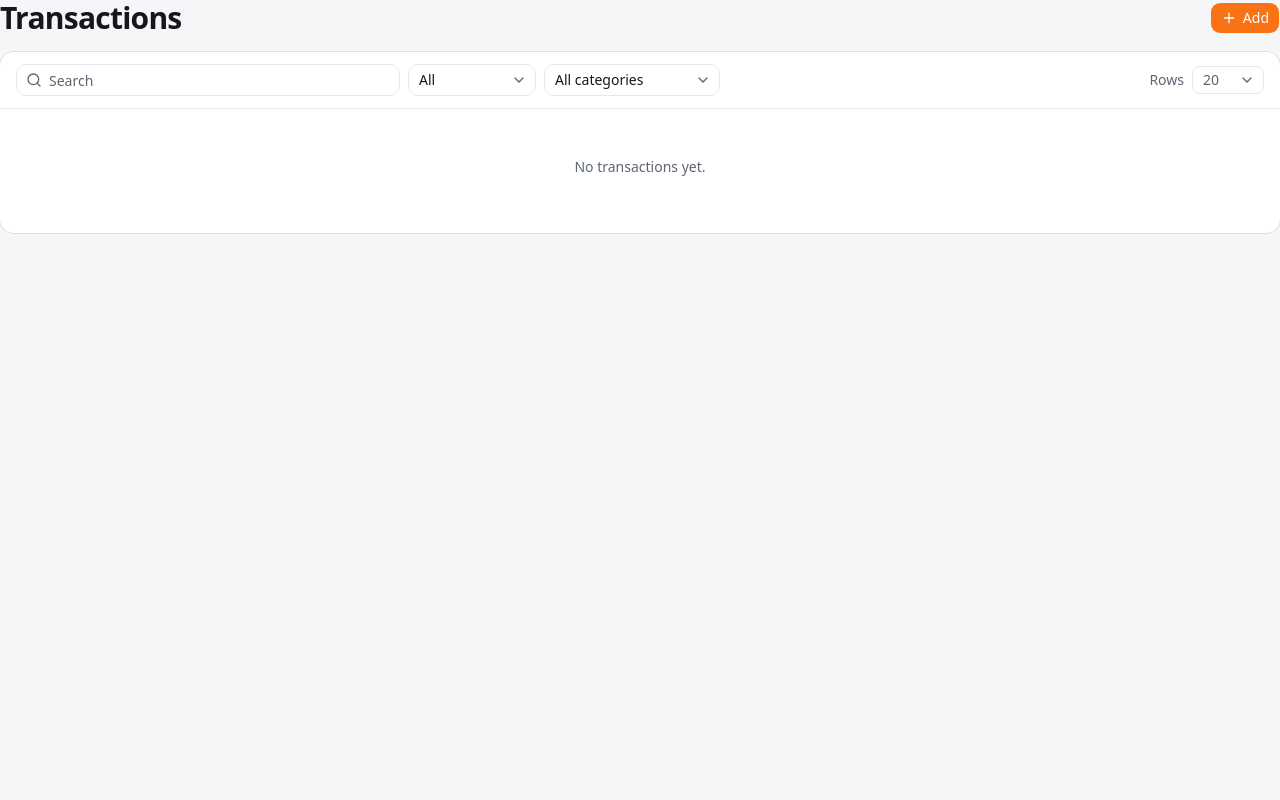
Test: transactions page › lets a guest open the add form but doesn't save
Check: the text "No transactions yet." is shown, box [574,157,706,176]
Click the button "Add": (1245, 18) [1210,2,1279,34]
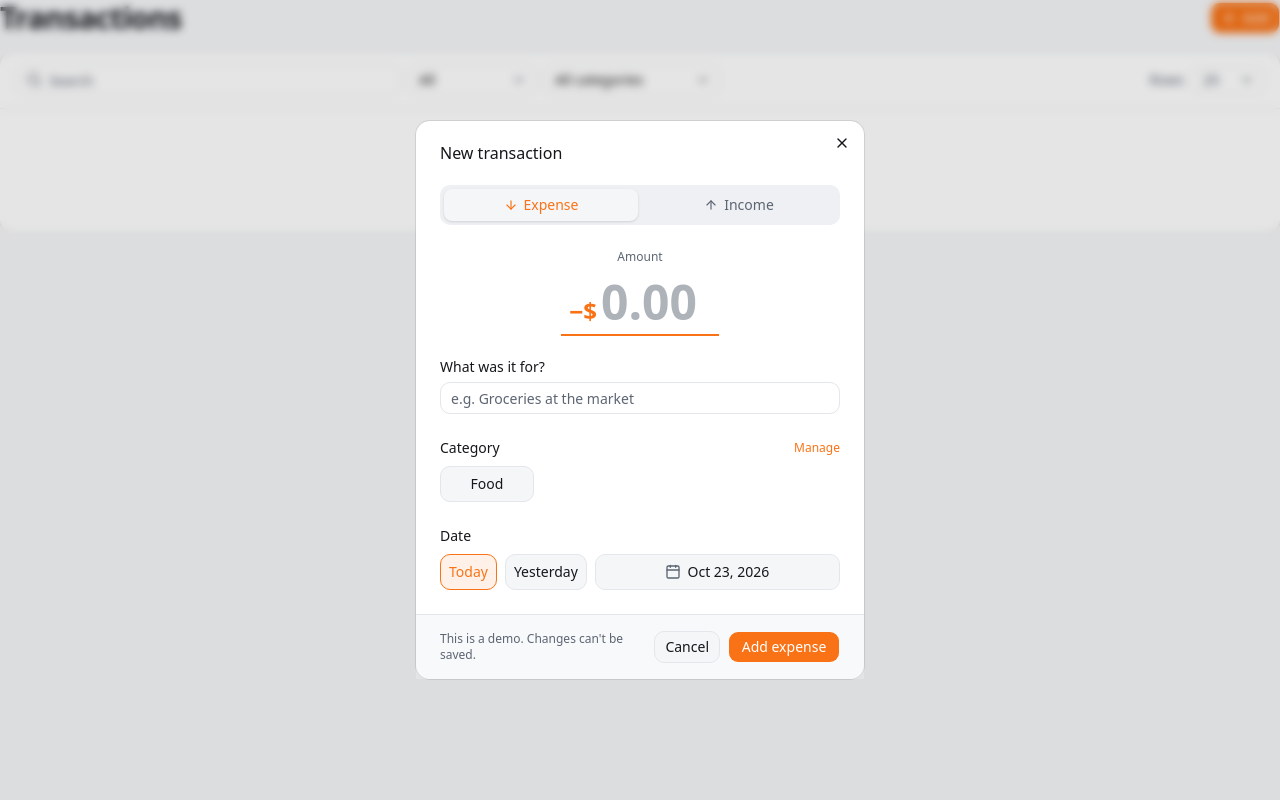
In the field labelled "Amount": (656, 302) [601,269,711,334], type "12.5"
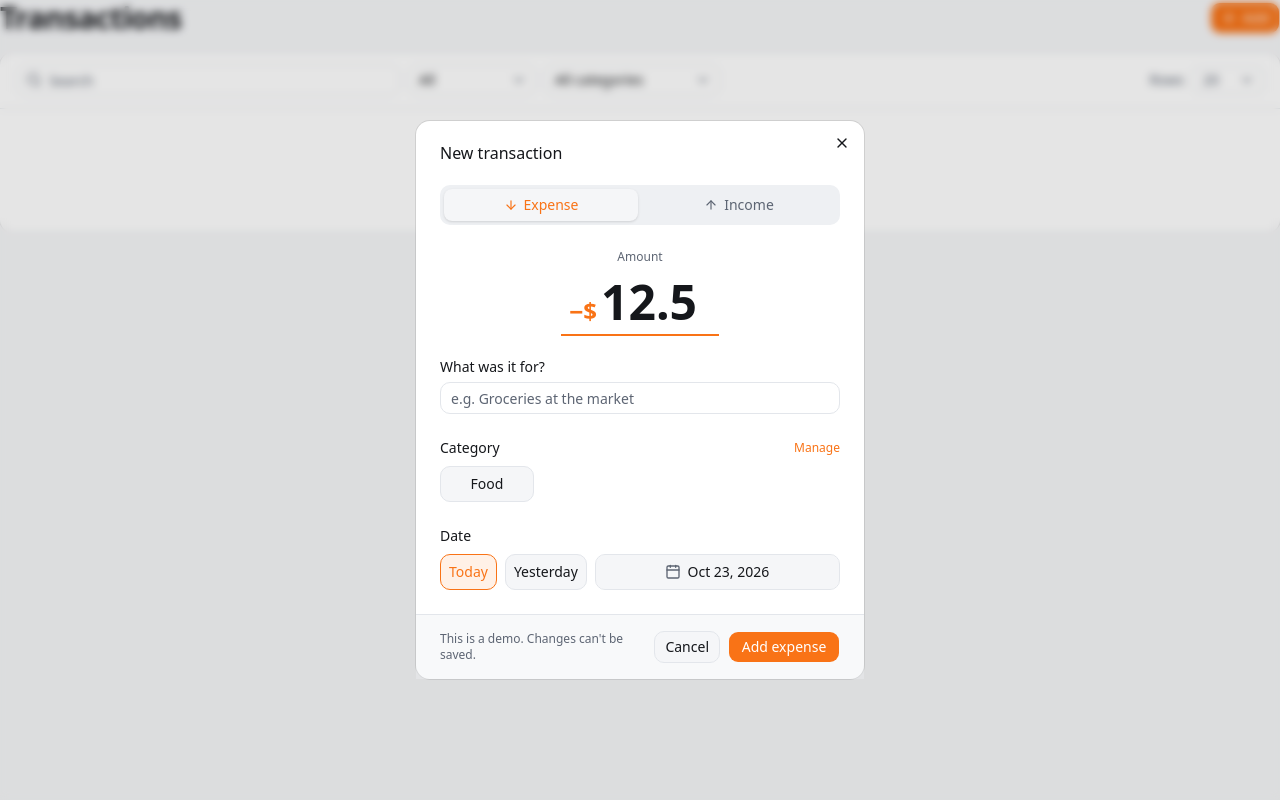
In the field labelled "What was it for?": (640, 398) [440,382,840,414], type "Tacos"
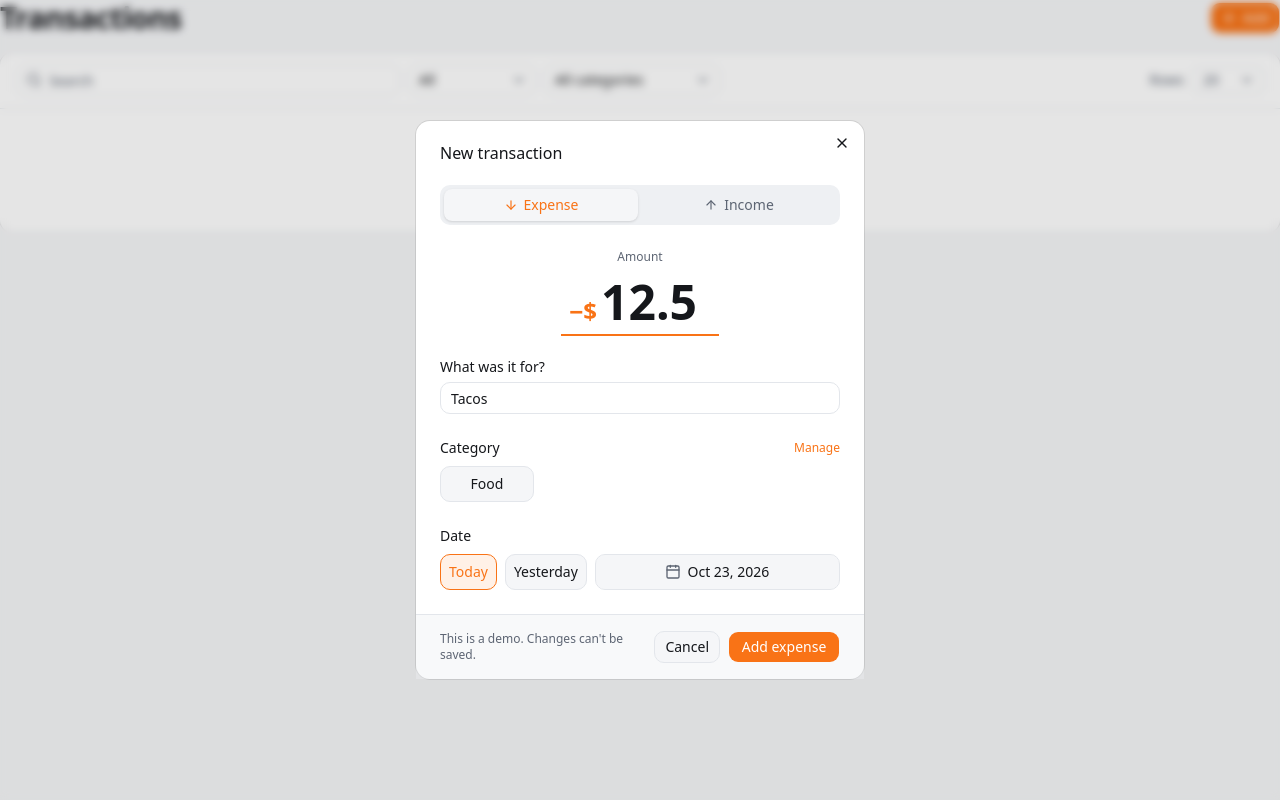
Click the radio button labelled "Food": (487, 484) [440,466,534,502]
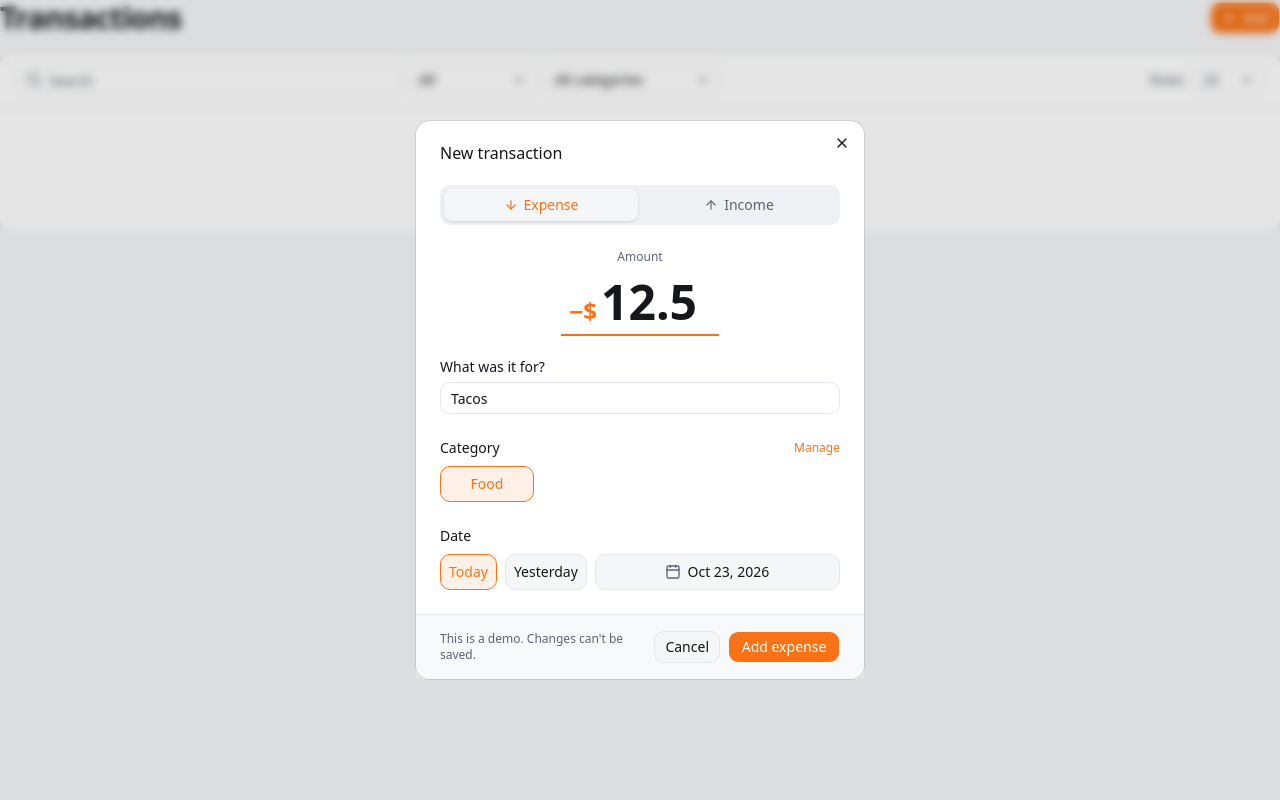
Submit the form labelled "What was it for?", box [416,121,864,679]
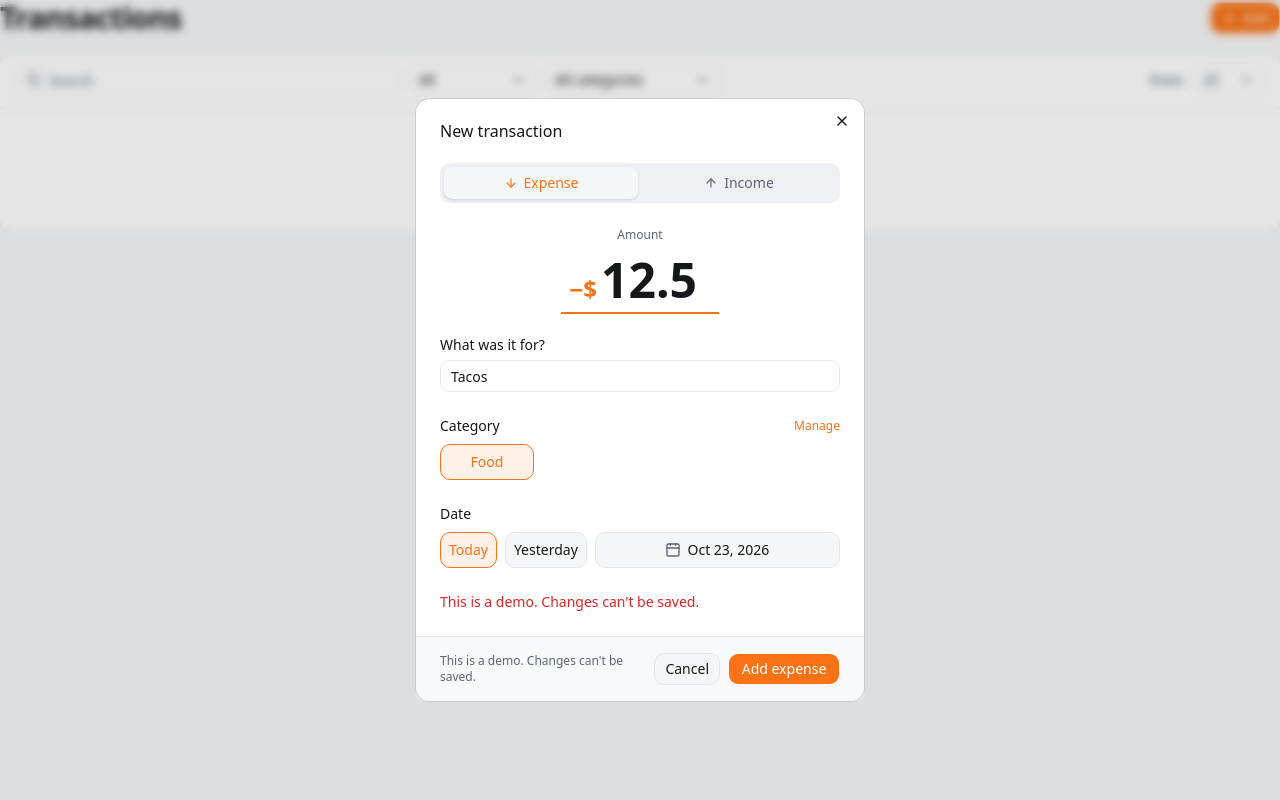
Check: the message reads "This is a demo. Changes can't be saved.", box [440,592,699,611]
